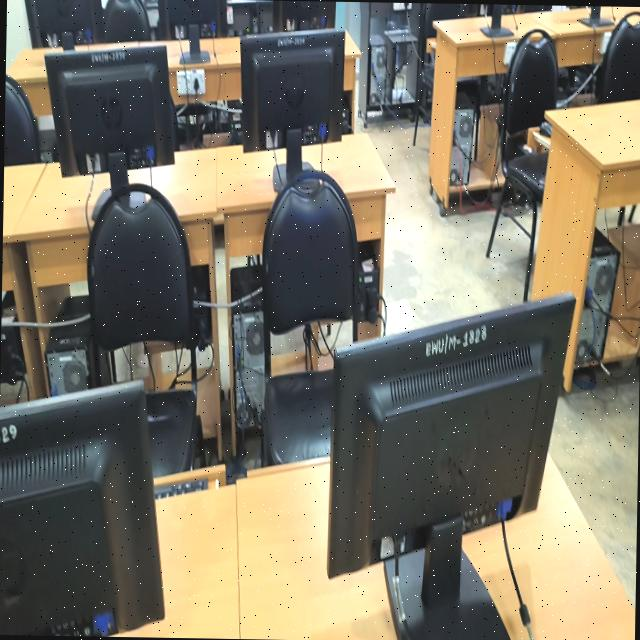Chair: (259, 133, 375, 464), (484, 28, 557, 300), (87, 184, 193, 349), (144, 388, 197, 477), (594, 10, 640, 101), (3, 73, 39, 164), (102, 0, 149, 41)
Cpu: (575, 228, 618, 362), (232, 309, 264, 421), (43, 318, 89, 394), (450, 106, 474, 182), (56, 294, 87, 318), (201, 131, 229, 147)
Monitor: (326, 293, 573, 640), (0, 381, 163, 635), (43, 44, 174, 175), (240, 42, 342, 177), (157, 0, 226, 52), (24, 0, 95, 48), (490, 3, 501, 33)
